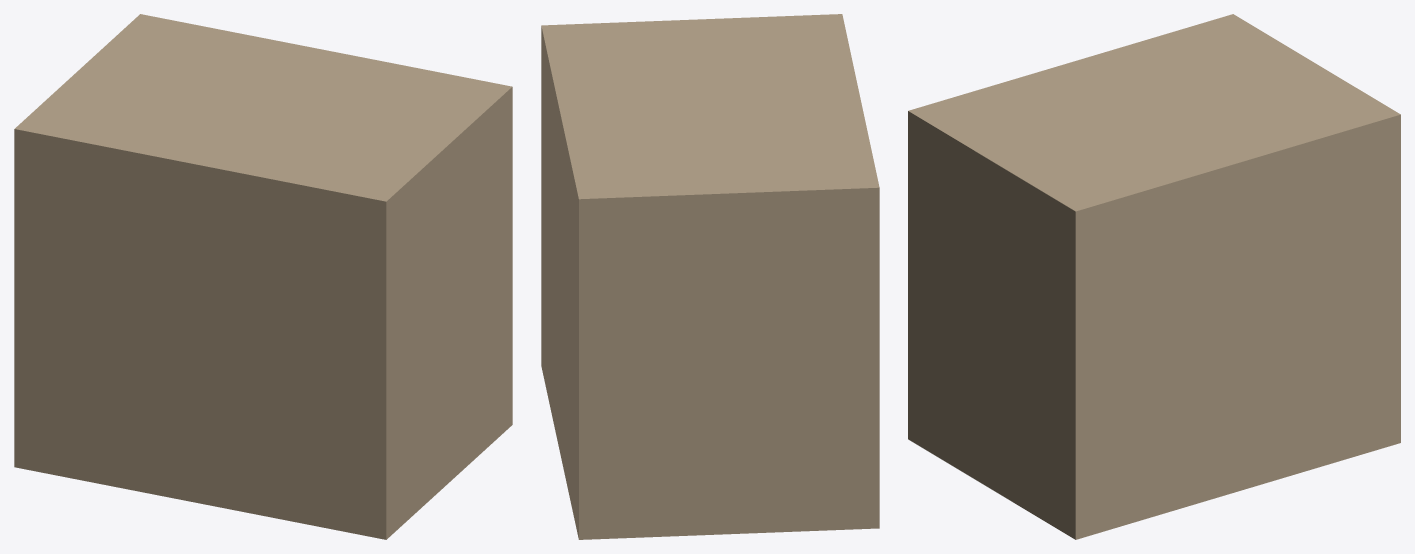
File: bld_106339030.dae
3 views of the same model, side by side, from view 1: azimuth 30°, elevation 25°; view 2: azimuth 150°, elevation 25°; view 3: azimuth 270°, elevation 25° (orthographic). The views are drawn at different scales.
Visible parts, largest first — view 1: bld_106339030; view 2: bld_106339030; view 3: bld_106339030.
Part boxes in pixels (x1,y1,x2,y2): bld_106339030: [14, 14, 512, 539]; bld_106339030: [541, 14, 879, 539]; bld_106339030: [908, 14, 1400, 539].
Size of the model in its own units: 10.32 by 10.88 by 8.
